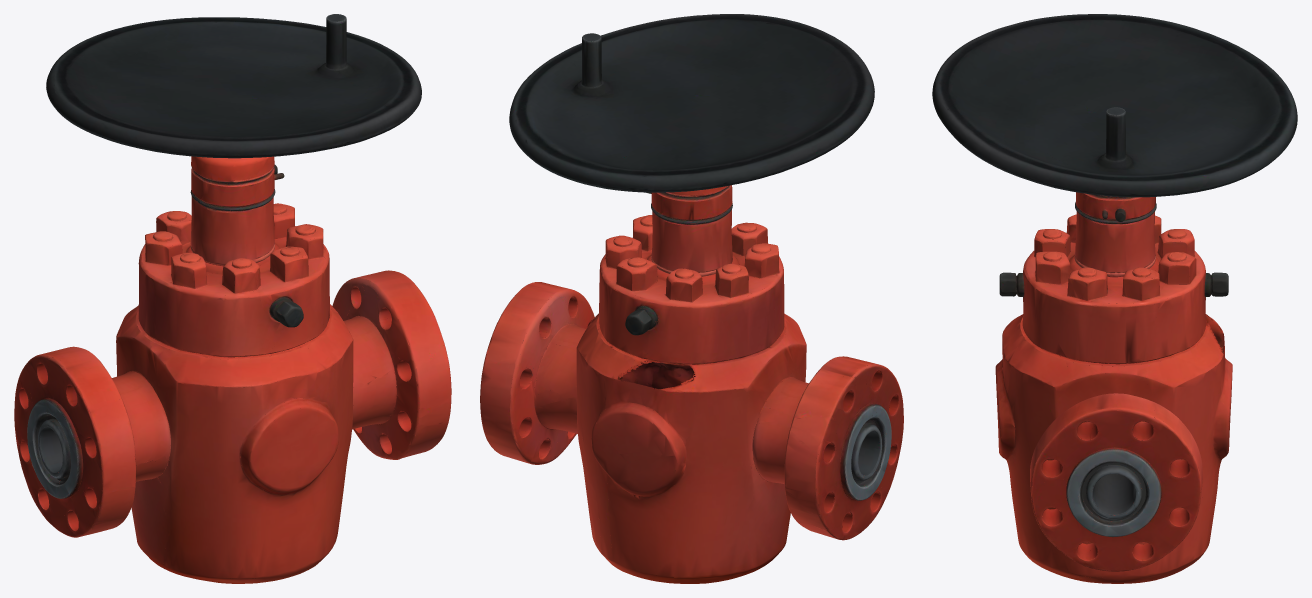
The model's file is valves.glb.
3 views of the same model, side by side, from view 1: azimuth 30°, elevation 25°; view 2: azimuth 150°, elevation 25°; view 3: azimuth 270°, elevation 25° (orthographic). The views are drawn at different scales.
Visible parts, largest first — view 1: model; view 2: model; view 3: model.
Boxes of the visible parts, box(x1,y1,x2,y2) form: model: box(14, 14, 451, 583); model: box(480, 14, 903, 583); model: box(932, 14, 1297, 583).
Size of the model in its own units: 1.42 by 1.89 by 1.28.
Materials: 1 (1 with a texture image).
